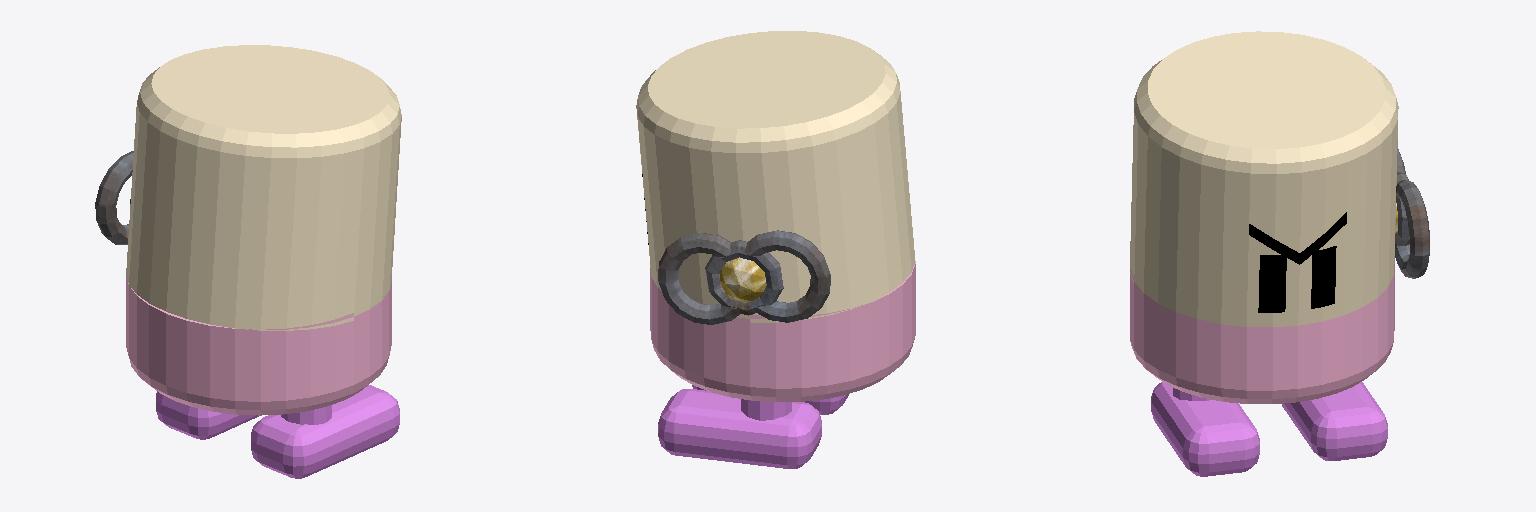
The picture shows the model from 3 angles: view 1: azimuth 30°, elevation 25°; view 2: azimuth 150°, elevation 25°; view 3: azimuth 270°, elevation 25°; orthographic projection.
Visible parts, largest first — view 1: Head, Jaw, RightLeg, LeftLeg, WindupKey; view 2: Head, Jaw, WindupKey, LeftLeg; view 3: Head, Jaw, RightLeg, LeftLeg, WindupKey.
Boxes of the visible parts, x1=… form: Head: x1=126, y1=45, x2=401, y2=330; Jaw: x1=126, y1=277, x2=391, y2=415; RightLeg: x1=251, y1=385, x2=399, y2=478; LeftLeg: x1=156, y1=391, x2=258, y2=439; WindupKey: x1=95, y1=151, x2=133, y2=244; Head: x1=636, y1=31, x2=915, y2=322; Jaw: x1=650, y1=262, x2=915, y2=401; WindupKey: x1=658, y1=230, x2=830, y2=324; LeftLeg: x1=658, y1=389, x2=821, y2=468; Head: x1=1130, y1=31, x2=1398, y2=326; Jaw: x1=1130, y1=264, x2=1394, y2=403; RightLeg: x1=1151, y1=382, x2=1259, y2=476; LeftLeg: x1=1282, y1=382, x2=1387, y2=460; WindupKey: x1=1395, y1=148, x2=1429, y2=278.
Bounding box in the file's own units: 105 × 148 × 113.
6 materials, 2 textured.